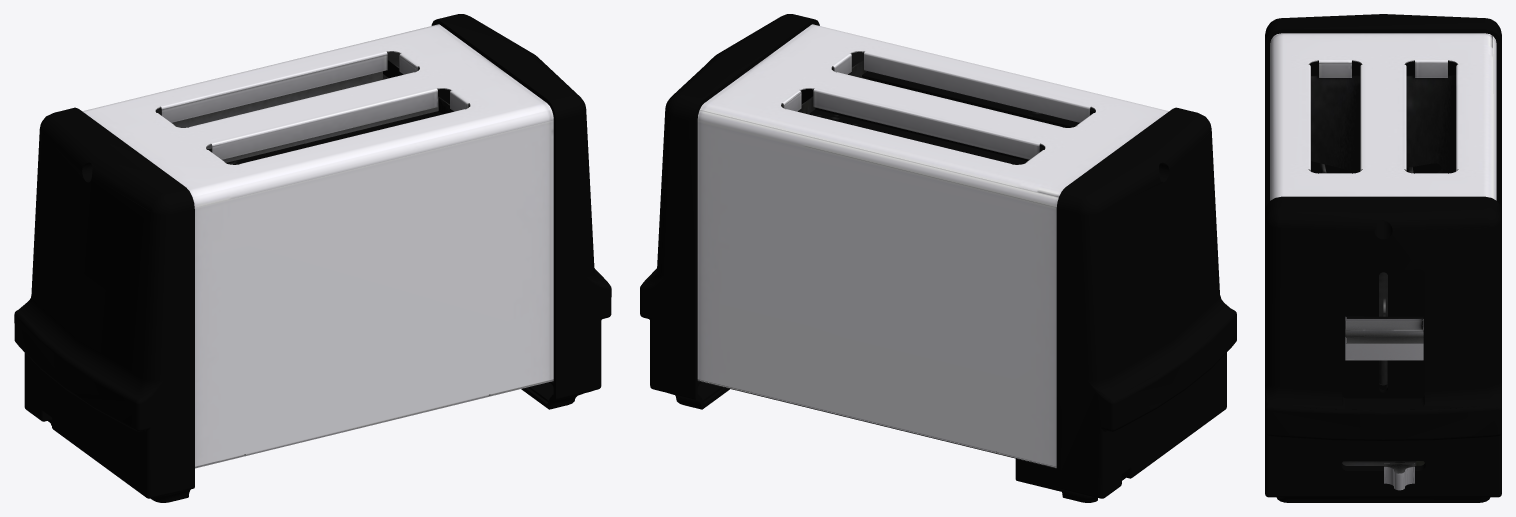
File: toaster.glb
3 renders of one model, left to right at view 1: azimuth 30°, elevation 25°; view 2: azimuth 150°, elevation 25°; view 3: azimuth 270°, elevation 25°, orthographic. The views are drawn at different scales.
Parts seen in each view (by area): view 1: Object_2; view 2: Object_2; view 3: Object_2.
Part boxes in pixels (bbox=[...]): Object_2: bbox=[14, 14, 611, 502]; Object_2: bbox=[640, 14, 1236, 502]; Object_2: bbox=[1265, 14, 1501, 502].
Size of the model in its own units: 10.66 by 6.18 by 4.53.
1 material, 1 textured.
